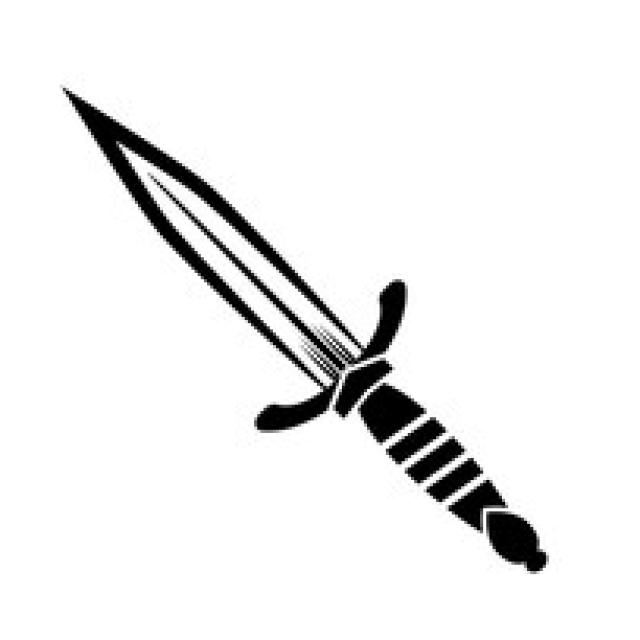Gun: (21, 92, 559, 608)
